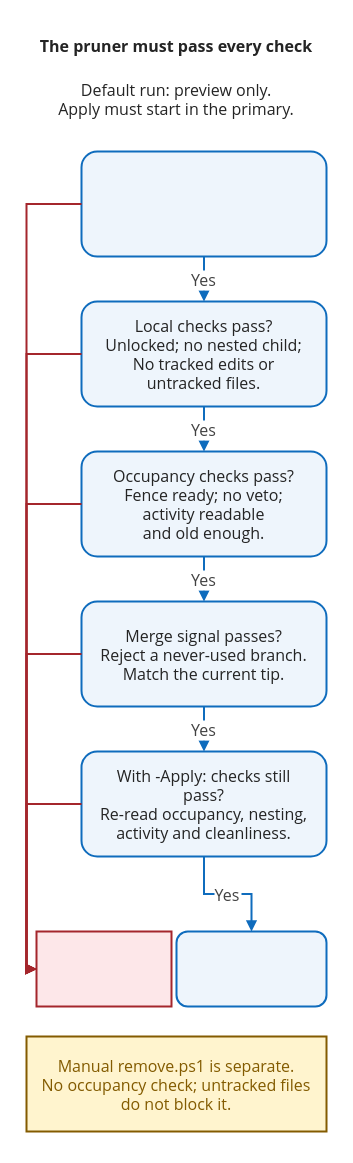
This 353x1163 diagram has some shape labels left out. Each missing label, with the centre of its shape:
"Eligible sibling? No nested, harness, bare or detached worktree." goes at point 203,203.
"Remove worktree. Assess branch separately." goes at point 251,968.
"SKIP Any failed or unknown check" goes at point 103,968.
